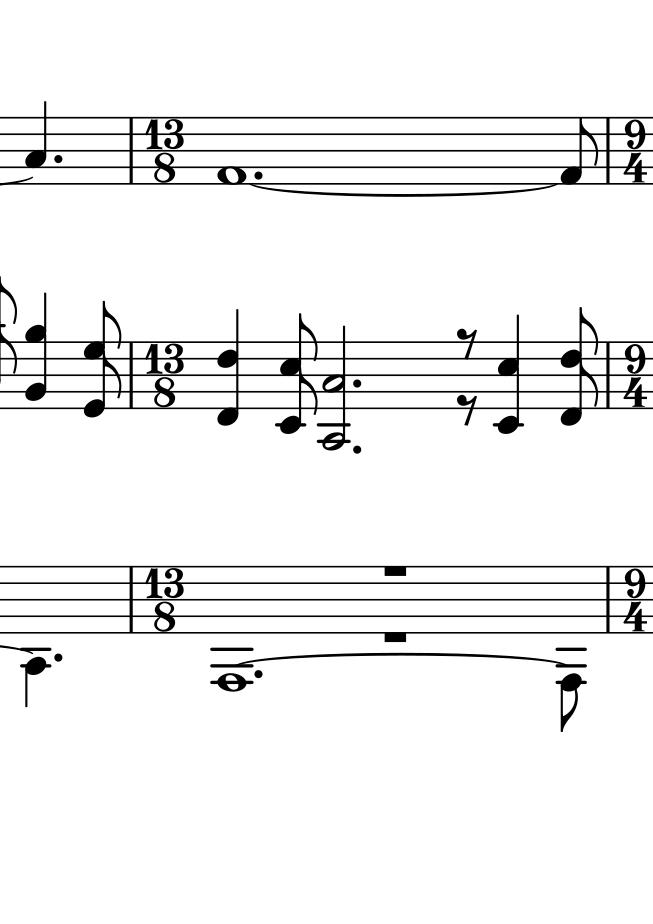1: (143, 339, 163, 377), (143, 116, 162, 151), (145, 565, 161, 599)
1_-6: (212, 565, 251, 692)
1_1: (215, 115, 248, 188)
3: (163, 116, 186, 151), (163, 566, 185, 600), (164, 343, 186, 373)
4: (621, 150, 649, 183), (621, 377, 649, 408), (622, 600, 648, 633)
4_-1_6: (215, 309, 241, 427)
4_-2_5: (495, 315, 525, 436)
4_-4: (21, 565, 52, 707)
4_2_9: (23, 292, 50, 411)
4_3: (23, 100, 48, 186)
8: (151, 151, 177, 185), (151, 599, 176, 634), (151, 375, 176, 409)
8_-1_6: (559, 305, 601, 428)
8_-2_5: (273, 313, 319, 435)
8_-4_3: (321, 326, 350, 453)
8_-6: (556, 565, 587, 733)
8_0_7: (81, 301, 124, 419)
8_1: (560, 117, 600, 187)
9: (623, 341, 649, 375), (623, 116, 648, 150), (623, 566, 648, 600)
Rests1: (380, 627, 410, 647), (380, 561, 411, 580)
Rests8: (454, 392, 481, 428), (455, 325, 479, 361)
Single_barline: (122, 566, 139, 635), (599, 117, 616, 183), (601, 567, 616, 633), (123, 343, 138, 408), (601, 344, 615, 408)
Slur: (239, 652, 559, 664)
TimeSig: (144, 117, 187, 185), (146, 342, 188, 410), (145, 566, 185, 634), (619, 343, 650, 409), (620, 568, 650, 633), (620, 118, 649, 183)
dot: (350, 377, 364, 391), (51, 651, 65, 665), (251, 168, 265, 181), (351, 442, 364, 456), (51, 152, 63, 166), (252, 668, 264, 680)
